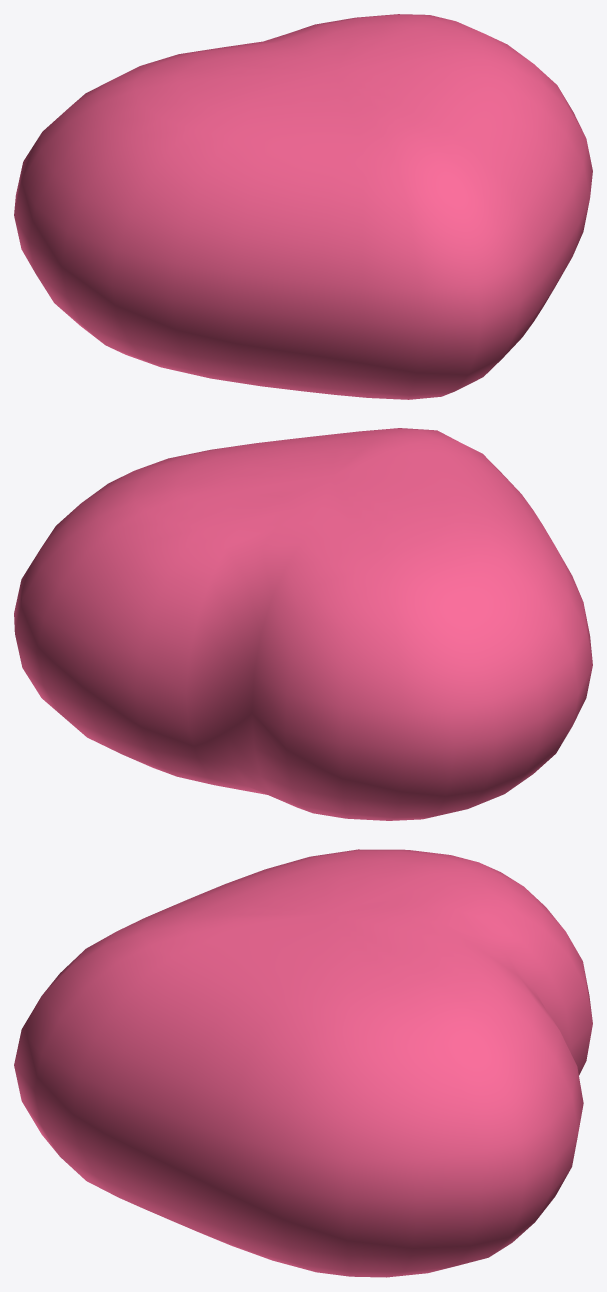
The model's file is Heartcandy_01.fbx.
The picture shows the model from 3 angles, top to bottom: view 1: azimuth 30°, elevation 25°; view 2: azimuth 150°, elevation 25°; view 3: azimuth 270°, elevation 25°; orthographic projection. The views are drawn at different scales.
Parts seen in each view (by area): view 1: Heartcandy_01_LOD0; view 2: Heartcandy_01_LOD0; view 3: Heartcandy_01_LOD0.
Boxes of the visible parts, x1=… form: Heartcandy_01_LOD0: x1=14, y1=14, x2=592, y2=399; Heartcandy_01_LOD0: x1=14, y1=428, x2=592, y2=820; Heartcandy_01_LOD0: x1=14, y1=849, x2=592, y2=1277.
Size of what is drawn, in the model's own units: 498 by 261 by 455.
